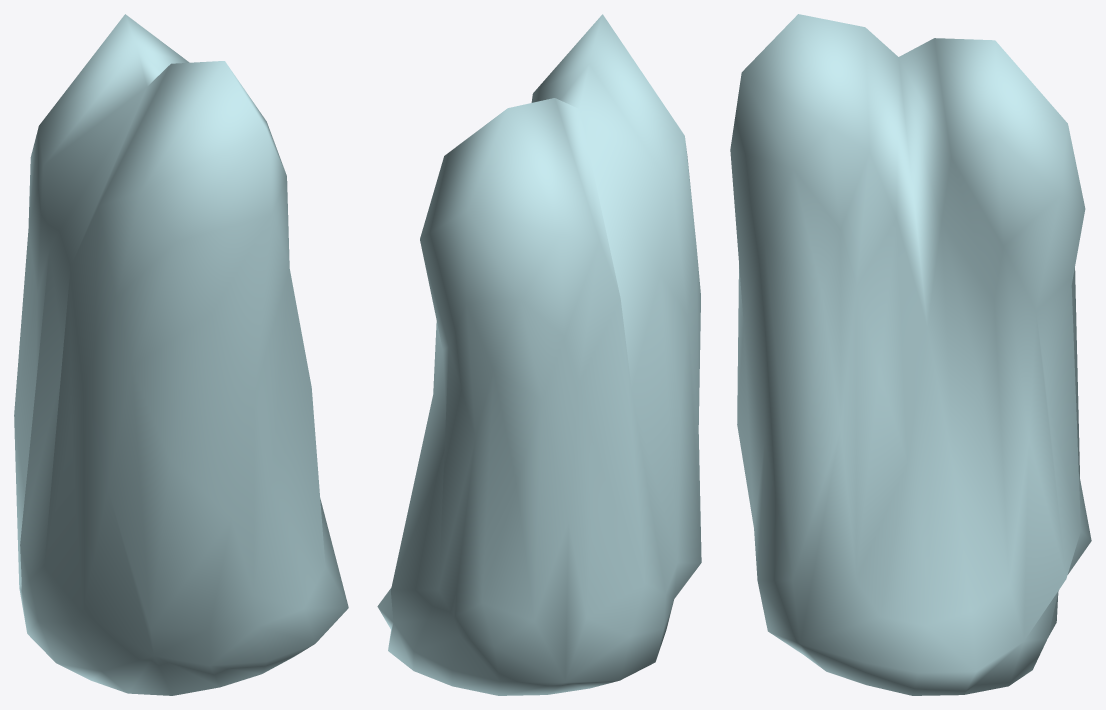
The model's file is blender env assets small ice spike 2.fbx.
3 renders of one model, left to right at view 1: azimuth 30°, elevation 25°; view 2: azimuth 150°, elevation 25°; view 3: azimuth 270°, elevation 25°, orthographic. The views are drawn at different scales.
Parts seen in each view (by area): view 1: rock.047; view 2: rock.047; view 3: rock.047.
Boxes of the visible parts, left/top/right/bottom form: rock.047: left=14, top=14, right=348, bottom=695; rock.047: left=377, top=14, right=701, bottom=695; rock.047: left=730, top=14, right=1091, bottom=695.
Size of the model in its own units: 80.19 by 178 by 91.49.
